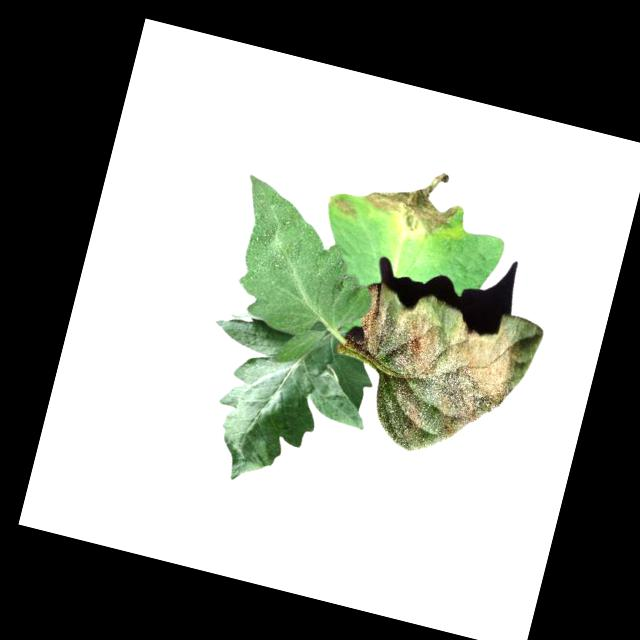Late_blight: (333, 278, 547, 477), (359, 155, 469, 245), (325, 191, 359, 218)
healthy: (178, 312, 383, 509), (214, 174, 395, 351)
